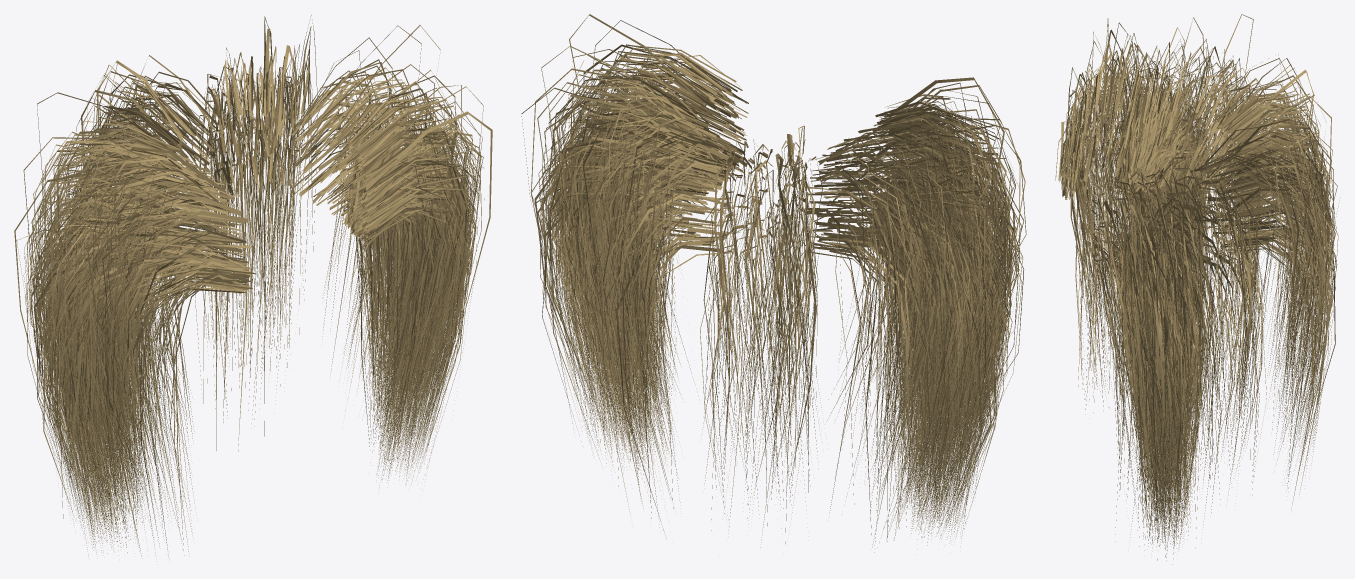
File: clown-hair-web.glb
The picture shows the model from 3 angles, left to right: view 1: azimuth 30°, elevation 25°; view 2: azimuth 150°, elevation 25°; view 3: azimuth 270°, elevation 25°; orthographic projection. The views are drawn at different scales.
Visible parts, largest first — view 1: MattedBlondHair; view 2: MattedBlondHair; view 3: MattedBlondHair.
Part boxes in pixels (x1,y1,x2,y2): MattedBlondHair: (14,15,492,558); MattedBlondHair: (521,14,1026,552); MattedBlondHair: (1055,14,1340,564).
Size of the model in its own units: 0.7405 by 0.6891 by 0.4271.
